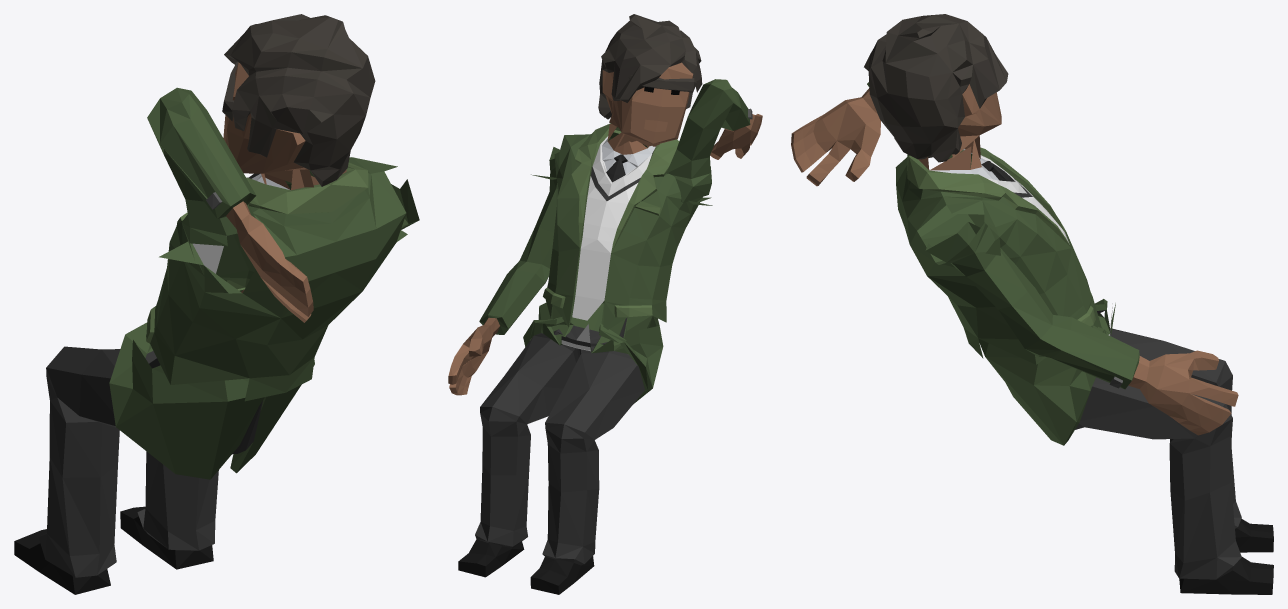
The model's file is Ward_vocals.obj.
The picture shows the model from 3 angles, left to right: view 1: azimuth 30°, elevation 25°; view 2: azimuth 150°, elevation 25°; view 3: azimuth 270°, elevation 25°; orthographic projection. The views are drawn at different scales.
Visible parts, largest first — view 1: Ward_vocals; view 2: Ward_vocals; view 3: Ward_vocals.
Boxes of the visible parts, x1=… form: Ward_vocals: x1=14, y1=14, x2=419, y2=594; Ward_vocals: x1=448, y1=14, x2=762, y2=594; Ward_vocals: x1=791, y1=14, x2=1273, y2=594.
Size of the model in its own units: 0.6147 by 1.45 by 1.16.
Materials: 1 (1 with a texture image).
